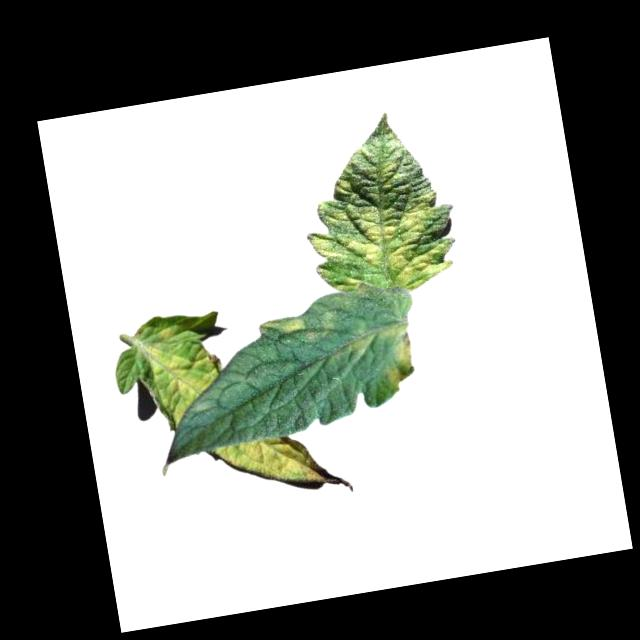Leaf_Mold: (302, 187, 456, 304), (215, 427, 329, 505), (148, 319, 228, 428), (342, 317, 420, 400), (263, 305, 337, 354)
